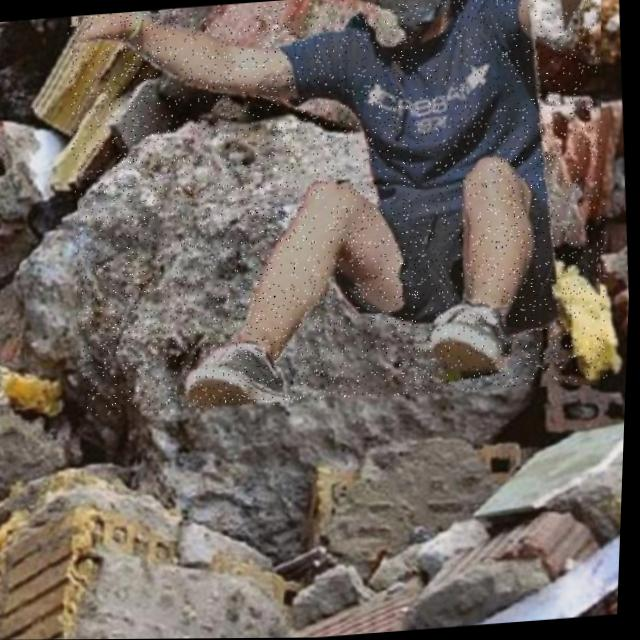Person in Rubble: (55, 0, 624, 420)
